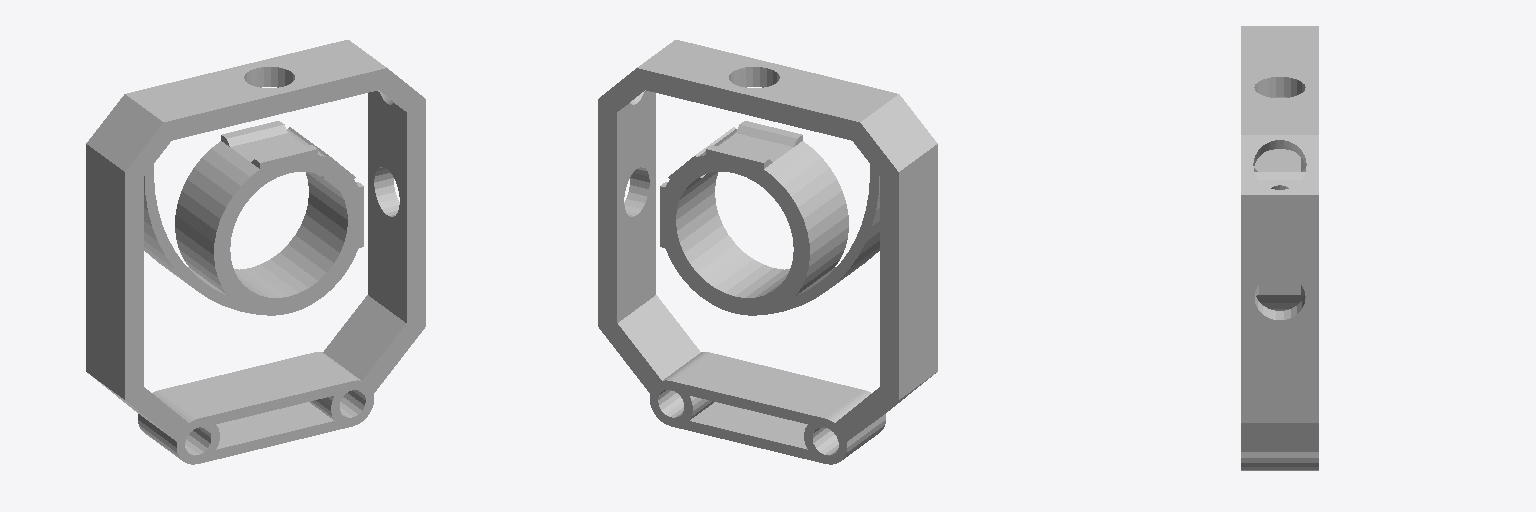
The model's file is Cube 1x1 V5_Laser Holder (Red Laser).obj.
The picture shows the model from 3 angles: view 1: azimuth 30°, elevation 25°; view 2: azimuth 150°, elevation 25°; view 3: azimuth 270°, elevation 25°; orthographic projection.
Visible parts, largest first — view 1: Solid1:17; view 2: Solid1:17; view 3: Solid1:17.
Boxes of the visible parts, box(x1,y1,x2,y2) form: Solid1:17: box(86, 40, 425, 464); Solid1:17: box(598, 40, 937, 464); Solid1:17: box(1241, 26, 1318, 470).
Size of the model in its own units: 38.94 by 43.33 by 8.75.